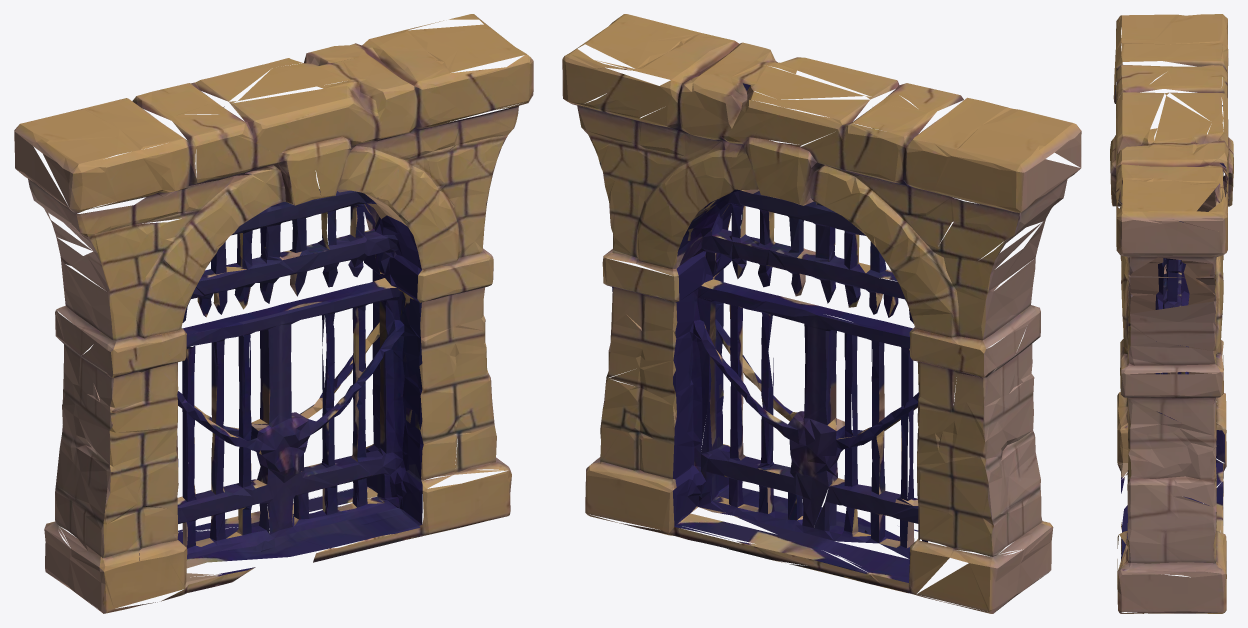
File: dungeon_gate.glb
3 renders of one model, left to right at view 1: azimuth 30°, elevation 25°; view 2: azimuth 150°, elevation 25°; view 3: azimuth 270°, elevation 25°, orthographic. The views are drawn at different scales.
Parts seen in each view (by area): view 1: geometry_0; view 2: geometry_0; view 3: geometry_0.
Part boxes in pixels (bbox=[...]): geometry_0: bbox=[14, 14, 533, 613]; geometry_0: bbox=[562, 14, 1081, 613]; geometry_0: bbox=[1110, 14, 1233, 613].
Size of the model in its own units: 3.4 by 3.21 by 0.8736.
1 material, 1 textured.
